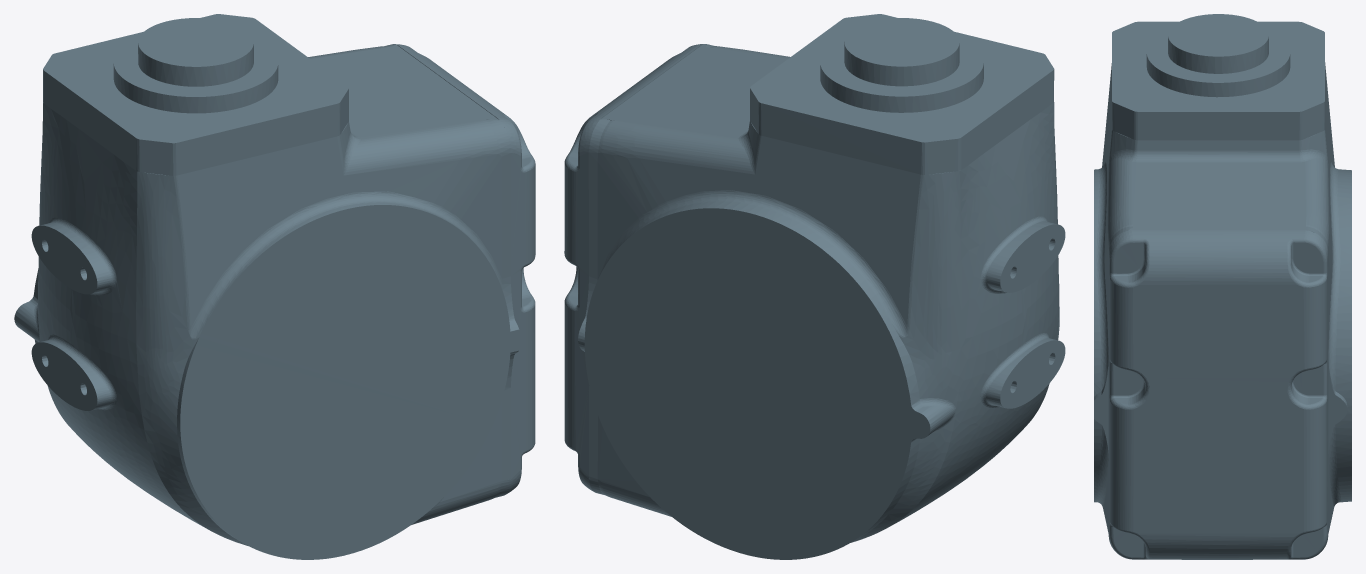
3 renders of one model, left to right at view 1: azimuth 30°, elevation 25°; view 2: azimuth 150°, elevation 25°; view 3: azimuth 270°, elevation 25°, orthographic. The views are drawn at different scales.
Parts seen in each view (by area): view 1: link_3; view 2: link_3; view 3: link_3.
Boxes of the visible parts, <box> form: link_3: <box>14,14,535,559</box>; link_3: <box>564,14,1065,559</box>; link_3: <box>1094,14,1351,559</box>.
Bounding box in the file's own units: 0.188 × 0.115 × 0.2075.
